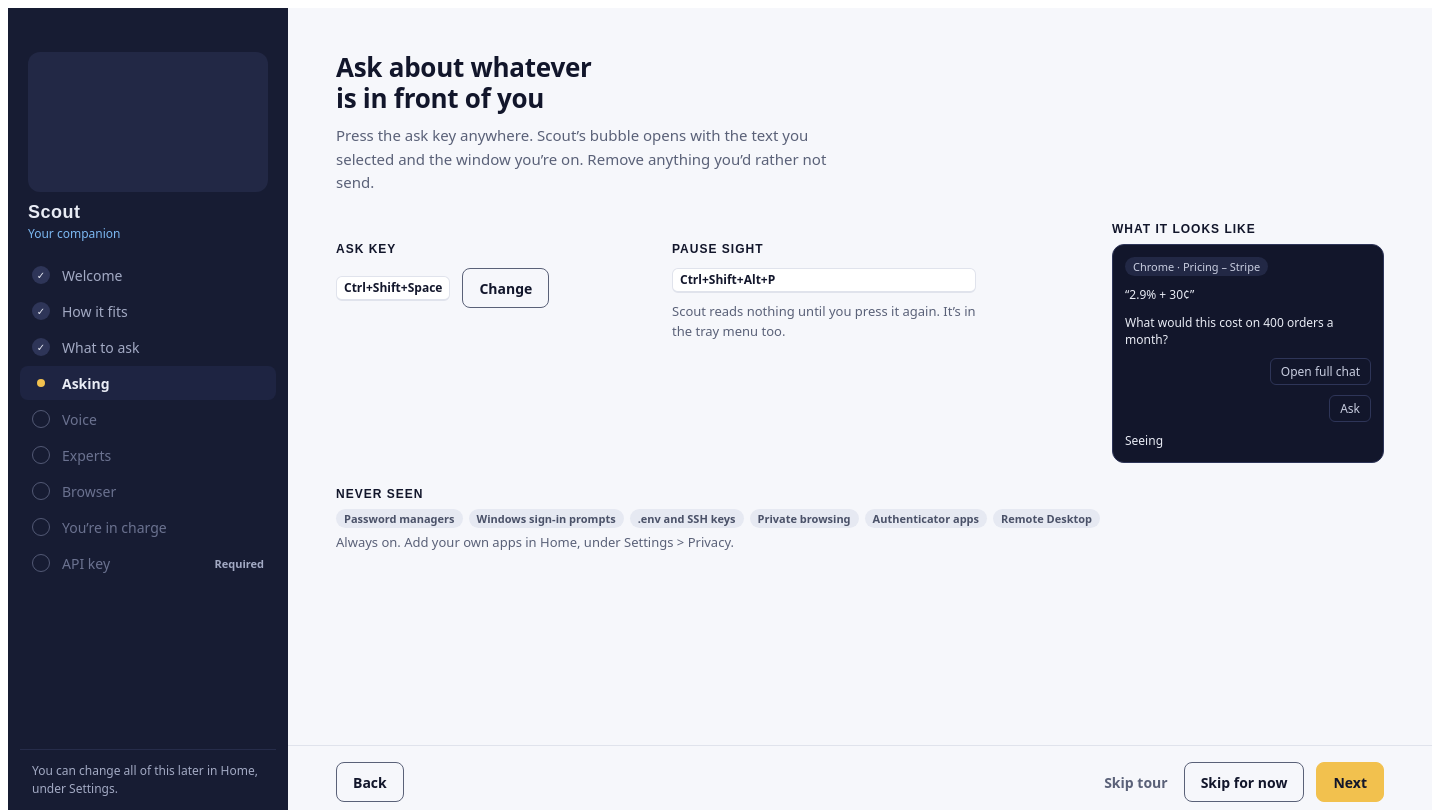
Walkthrough › saves nothing before Next, so Back loses no data
Expected: the text "Ctrl+Shift+Space" is shown, x1=336 y1=276 x2=450 y2=301
Click the button "Change" at (506, 288), box x1=462 y1=268 x2=549 y2=308
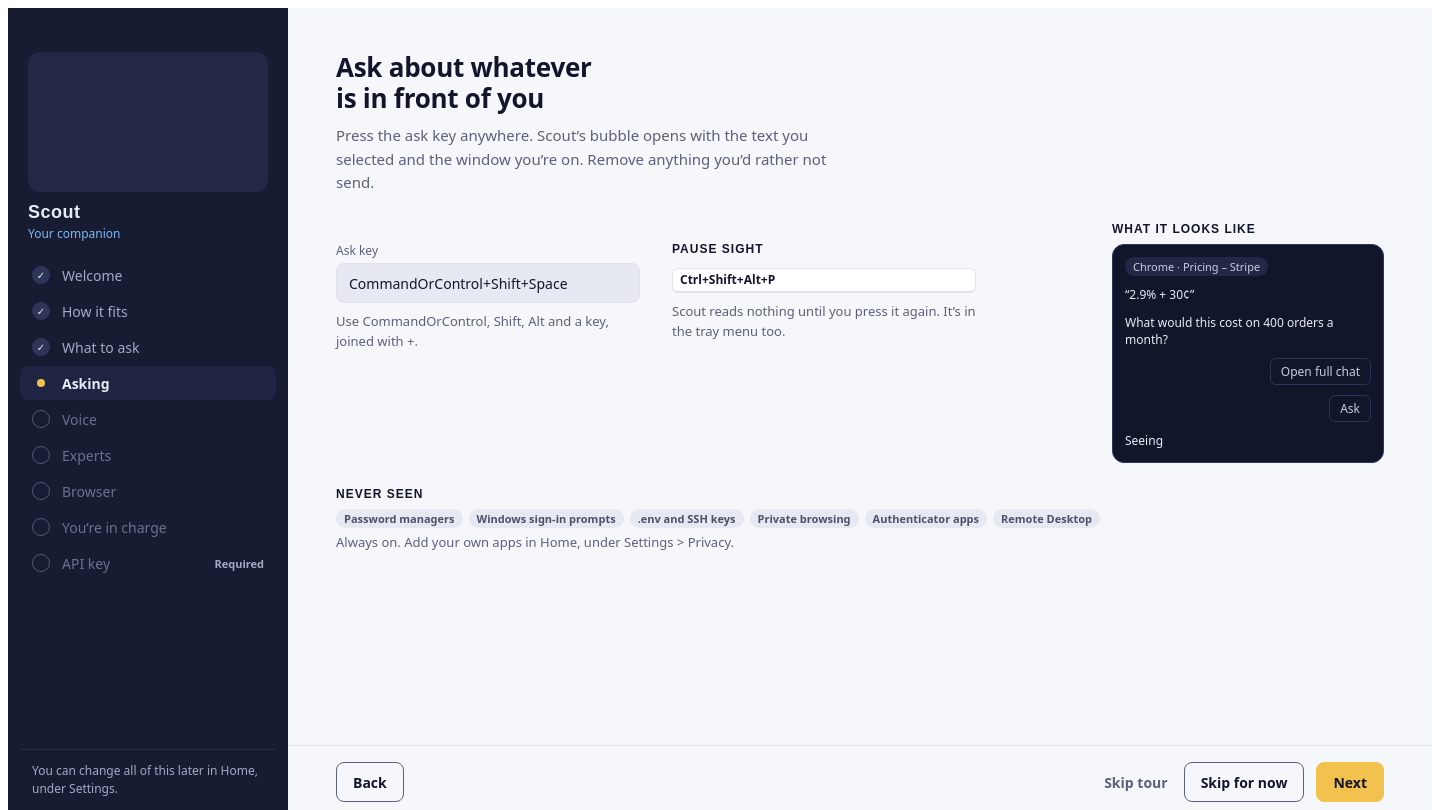
Replace the text in the field labelled "Ask key" with "Alt+Space" at (488, 283), box x1=336 y1=263 x2=640 y2=303
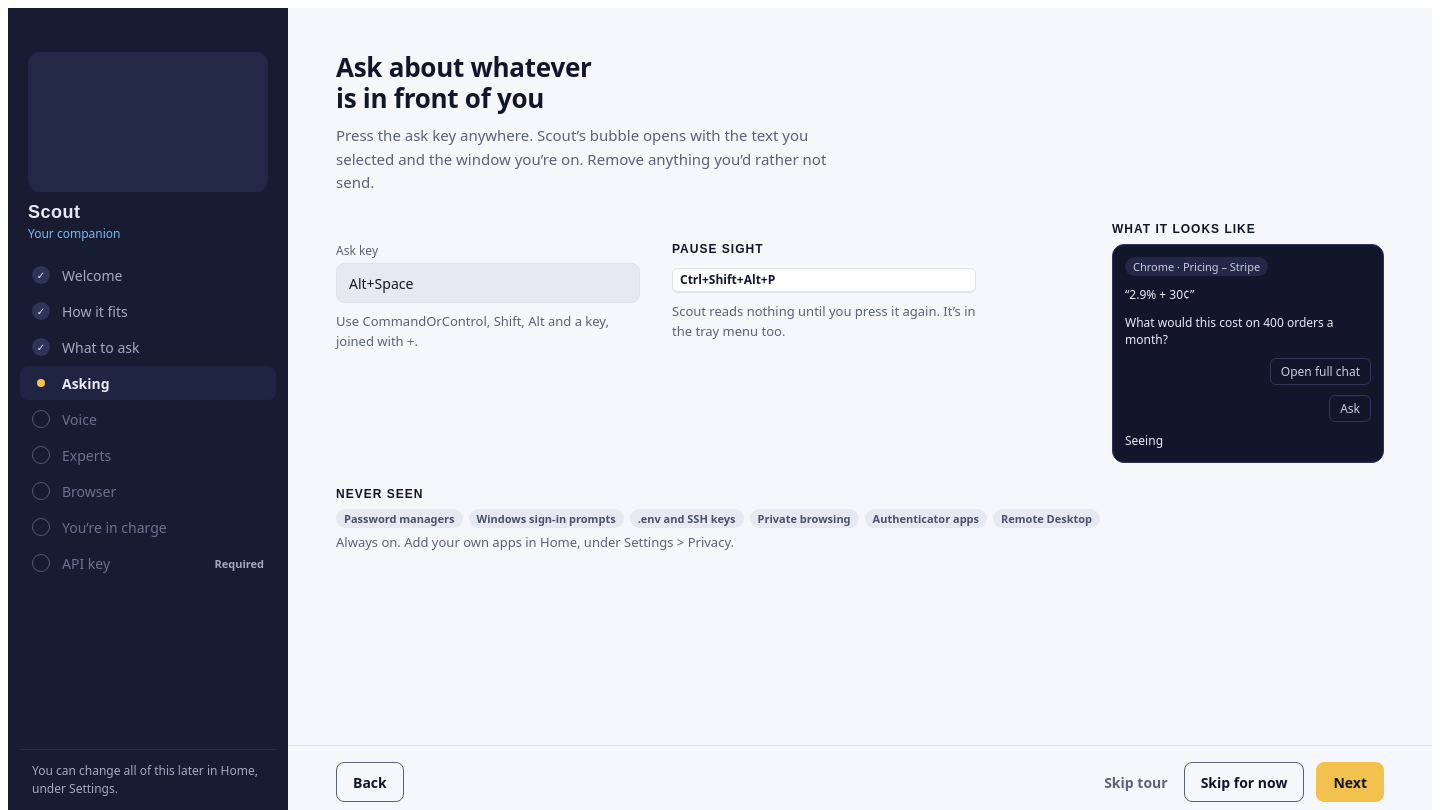
Click the button "Back" at (370, 782), box x1=336 y1=762 x2=404 y2=802
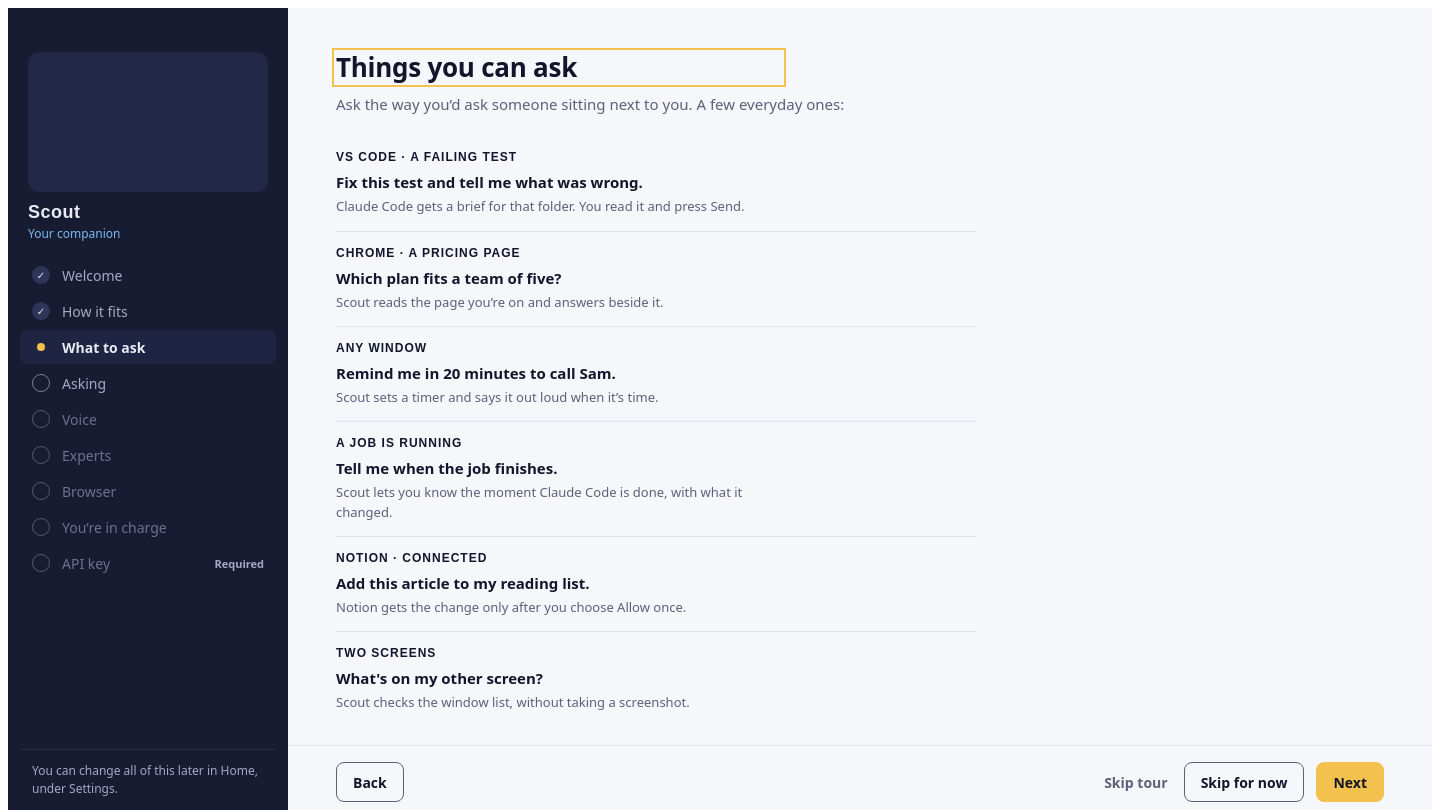
Now the heading "Things you can ask" is shown, box x1=336 y1=49 x2=577 y2=85
